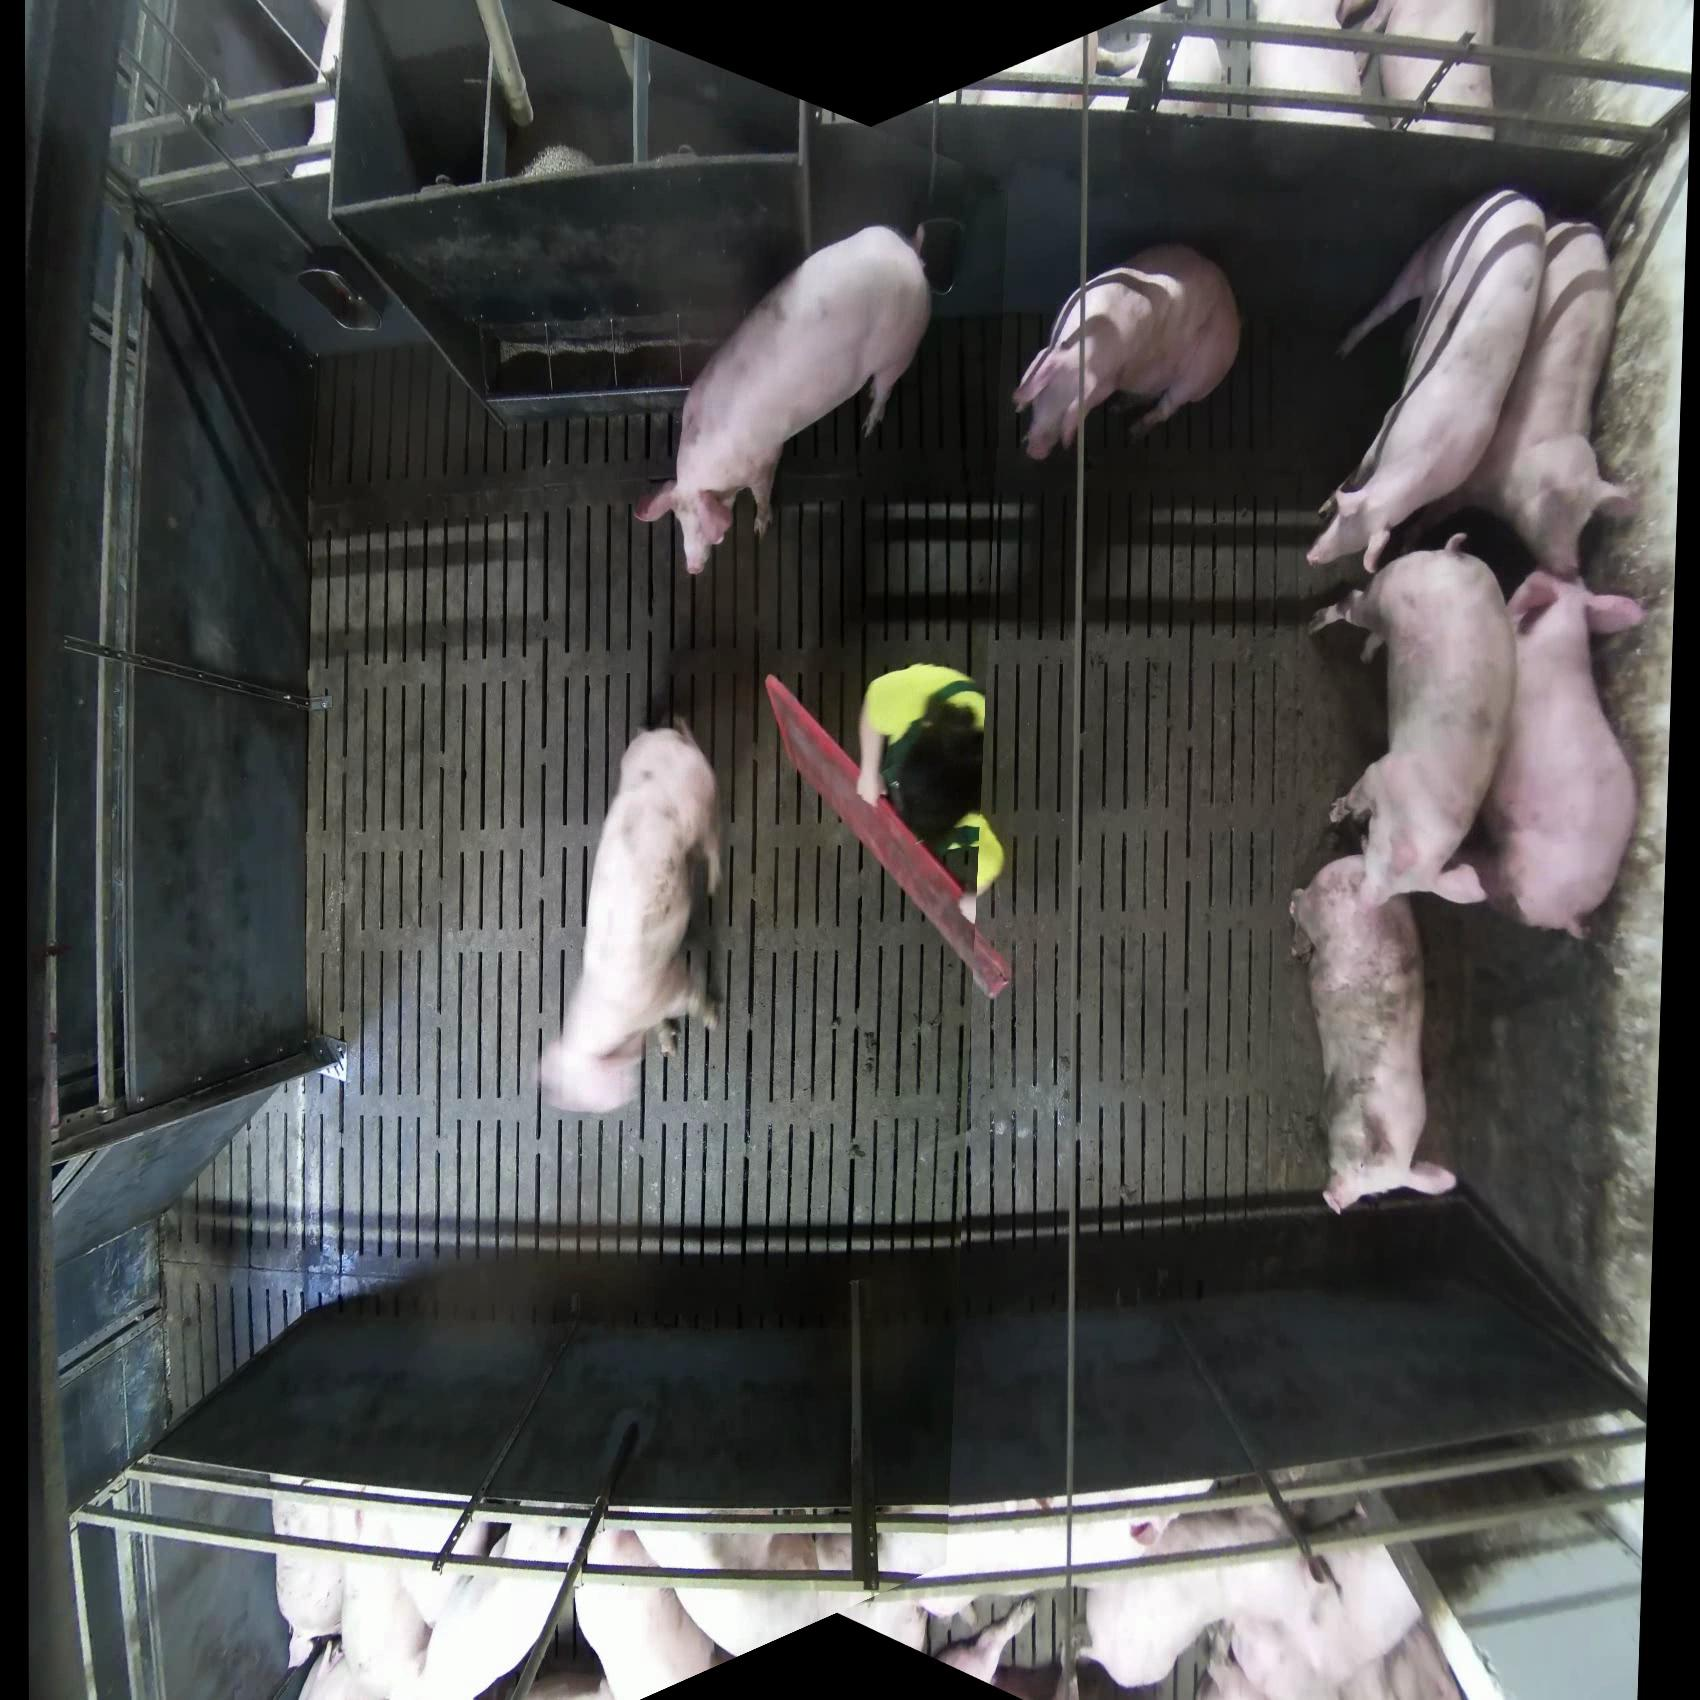pig: (632, 221, 935, 579), (1305, 185, 1549, 576), (1411, 216, 1639, 581), (574, 1522, 1039, 1700), (1307, 533, 1520, 911), (1082, 1491, 1464, 1699), (1445, 568, 1646, 943), (538, 714, 724, 1116), (271, 1493, 583, 1700), (1286, 852, 1458, 1216), (1010, 241, 1242, 464), (572, 1525, 731, 1699), (1337, 1, 1497, 139)
worker: (852, 661, 1007, 926)
